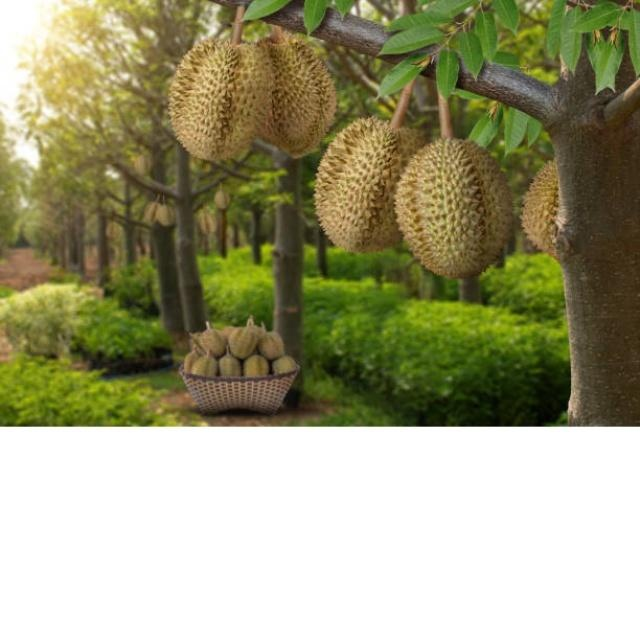sau_rieng: (398, 138, 516, 280), (314, 118, 416, 252), (172, 39, 265, 161), (252, 35, 327, 157)
